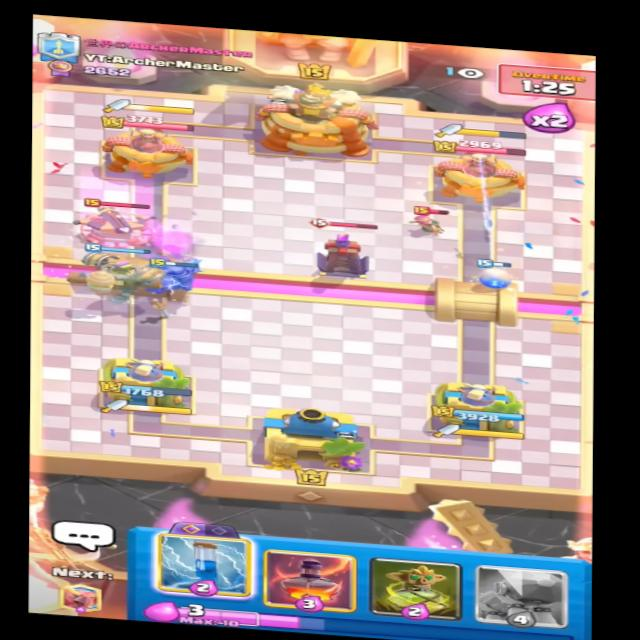archer: (414, 207, 448, 235)
evo-tesla: (299, 218, 385, 284)
x-bow: (71, 195, 157, 249)
